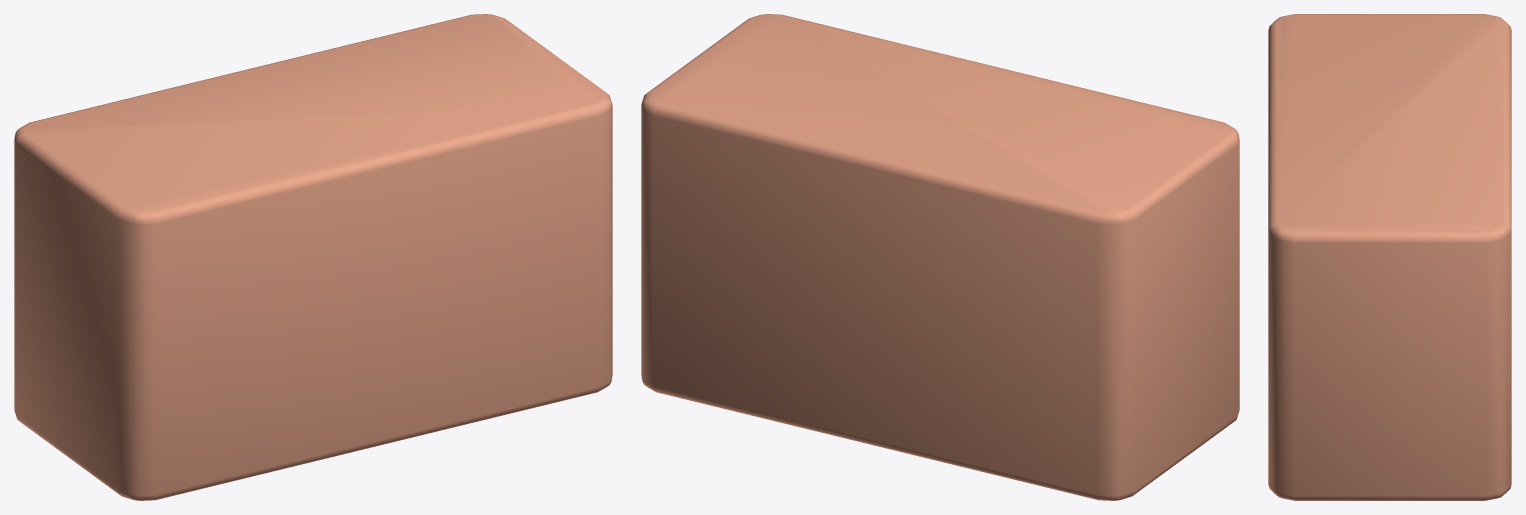
The model's file is island_lv2_1.fbx.
3 renders of one model, left to right at view 1: azimuth 30°, elevation 25°; view 2: azimuth 150°, elevation 25°; view 3: azimuth 270°, elevation 25°, orthographic. The views are drawn at different scales.
Visible parts, largest first — view 1: island_lv2_1; view 2: island_lv2_1; view 3: island_lv2_1.
Part boxes in pixels (bbox=[...]): island_lv2_1: bbox=[14, 14, 612, 500]; island_lv2_1: bbox=[641, 14, 1239, 500]; island_lv2_1: bbox=[1268, 14, 1511, 500].
Bounding box in the file's own units: 895 × 500 × 410.
